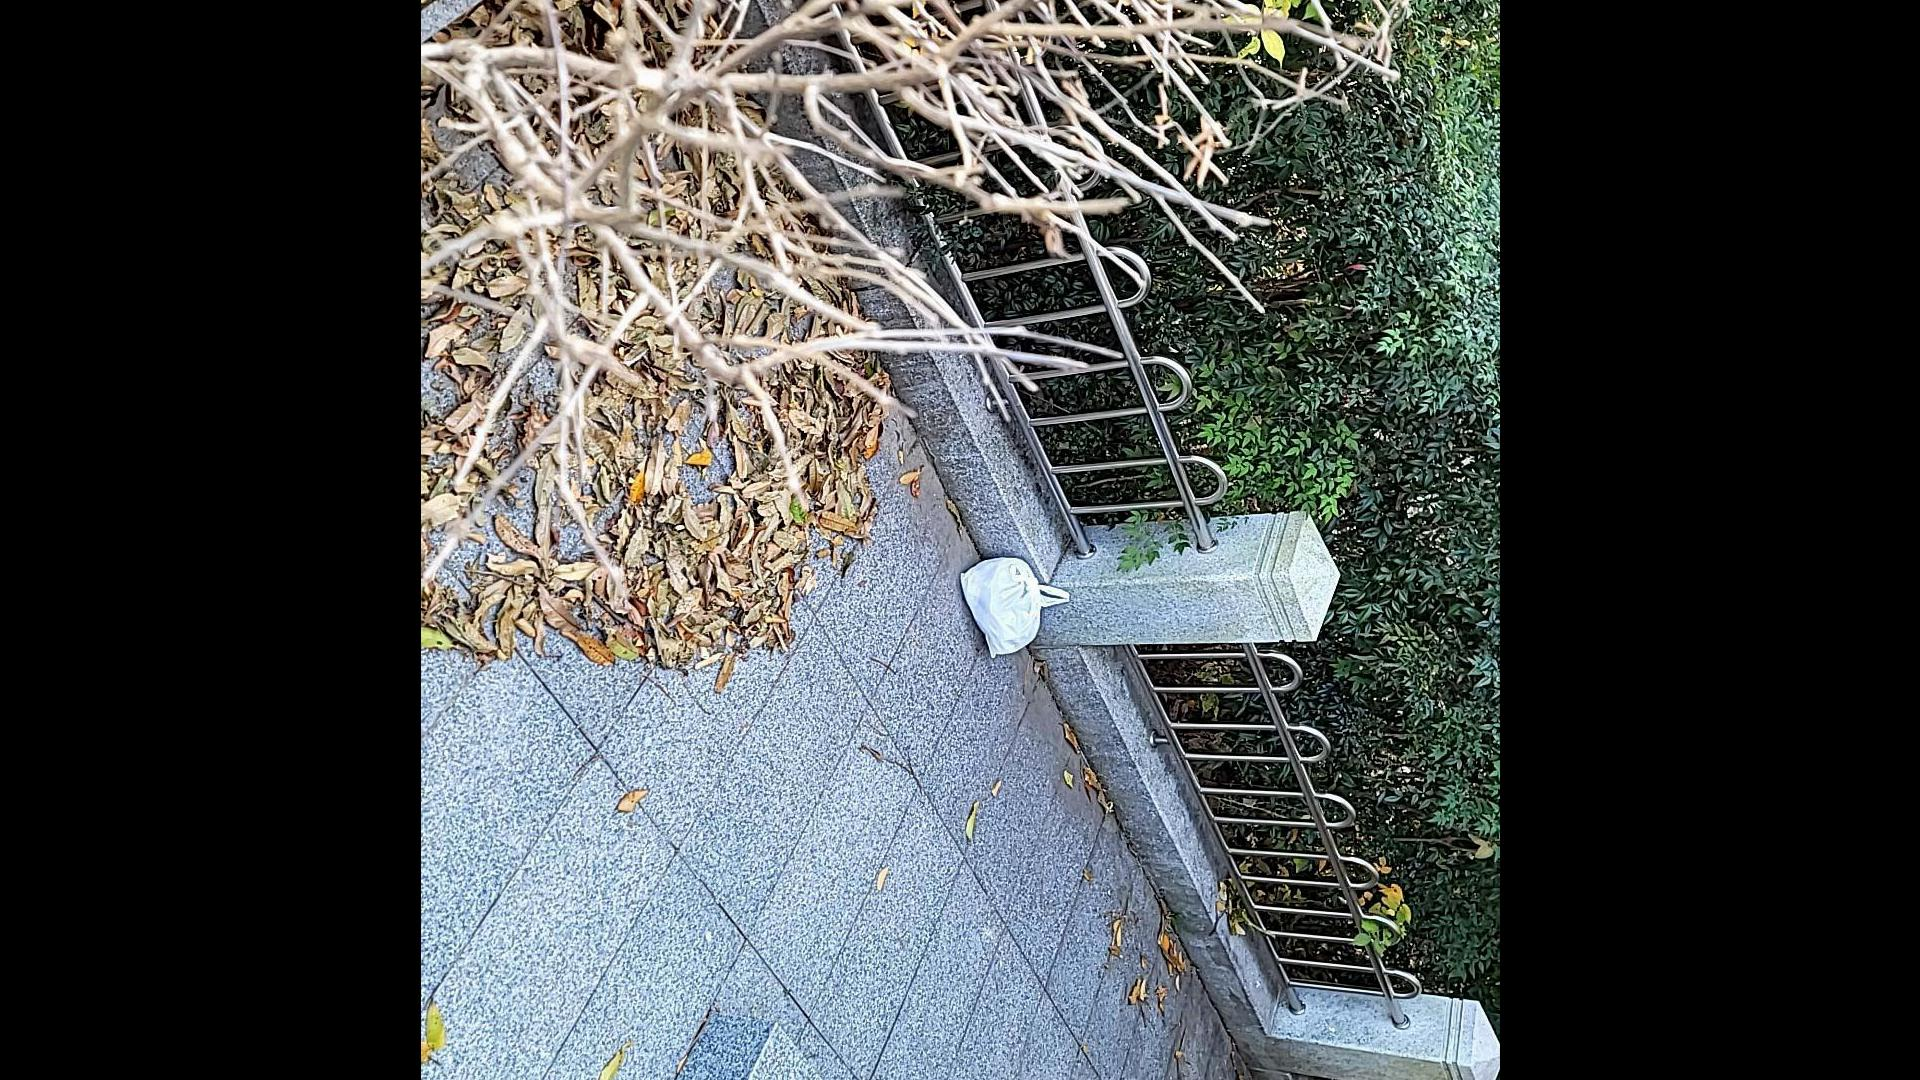white_bag: (953, 541, 1072, 669)
